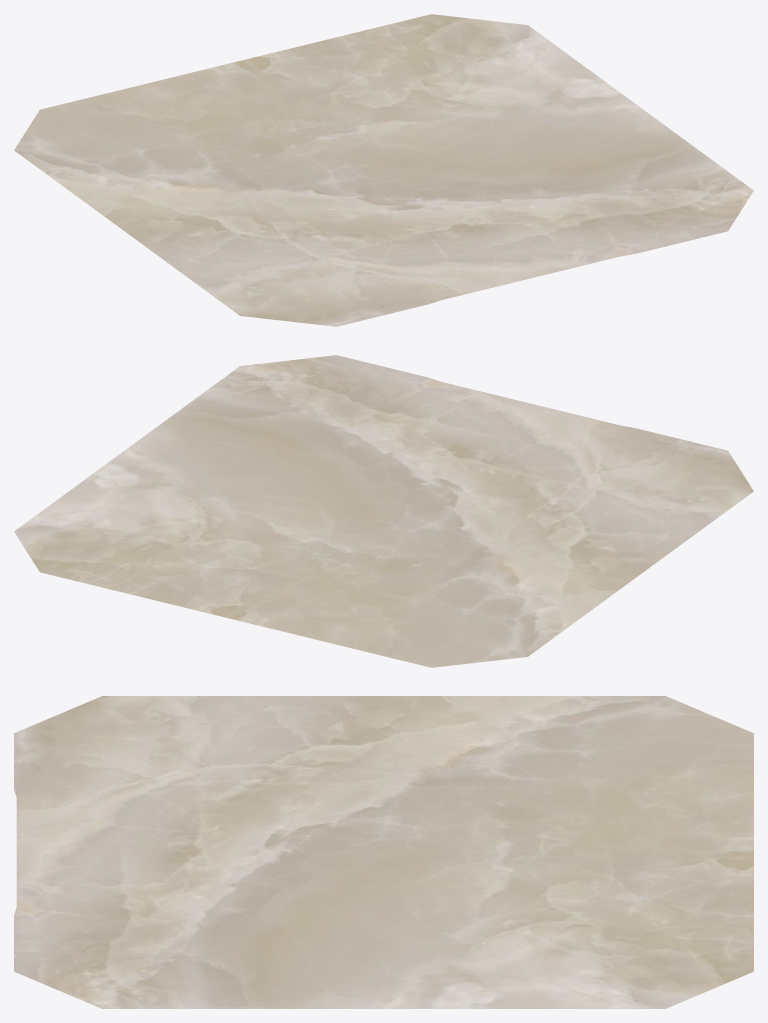
Rendered from Palace Roof.fbx.
3 views of the same model, one above another, from view 1: azimuth 30°, elevation 25°; view 2: azimuth 150°, elevation 25°; view 3: azimuth 270°, elevation 25° (orthographic). The views are drawn at different scales.
Parts seen in each view (by area): view 1: Cube.002; view 2: Cube.002; view 3: Cube.002.
Part boxes in pixels (x1=…): Cube.002: x1=14, y1=14, x2=753, y2=326; Cube.002: x1=14, y1=355, x2=753, y2=667; Cube.002: x1=14, y1=696, x2=753, y2=1008.
Size of the model in its own units: 4810 by 0.000784 by 4810.
1 material, 1 textured.
